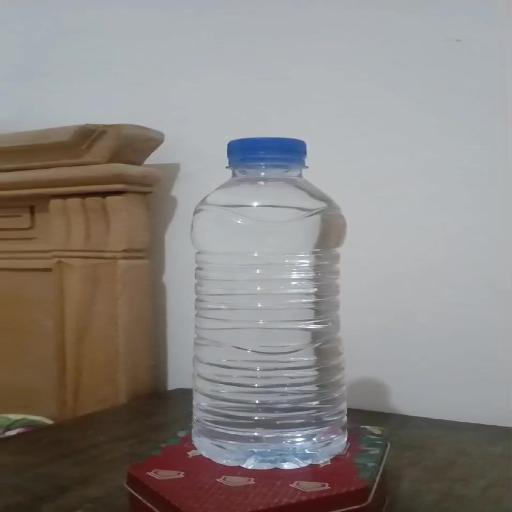bouteille non conformite: (200, 140, 368, 462)
